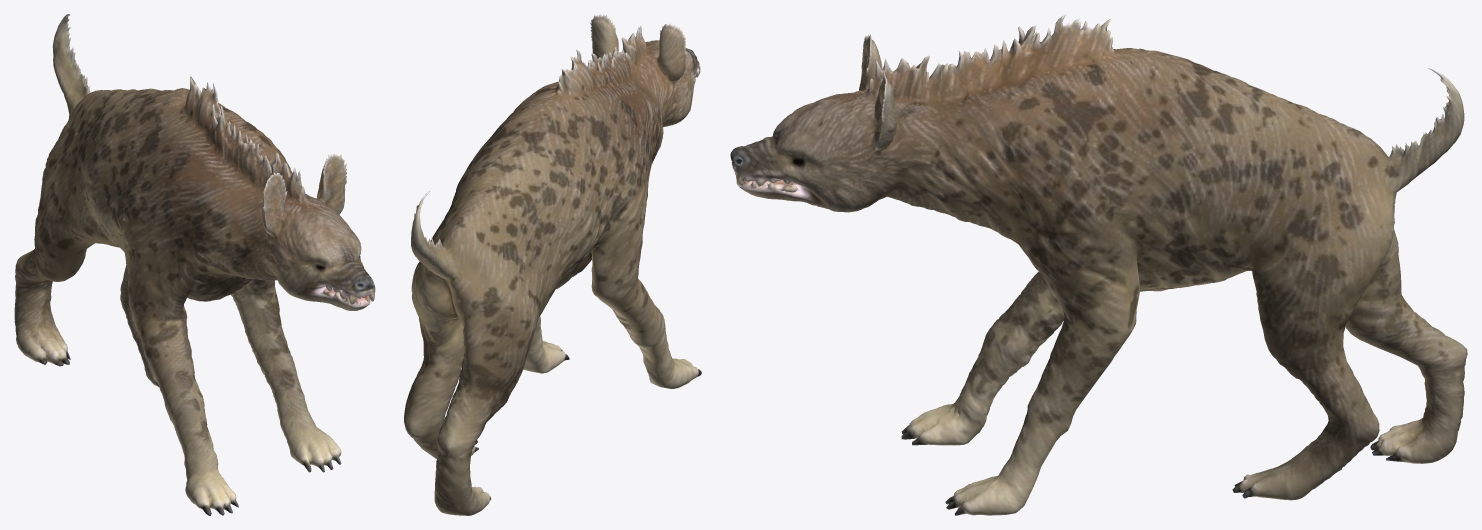
The model's file is MZ4250 - Hyena.glb.
The picture shows the model from 3 angles, left to right: view 1: azimuth 30°, elevation 25°; view 2: azimuth 150°, elevation 25°; view 3: azimuth 270°, elevation 25°; orthographic projection. The views are drawn at different scales.
Visible parts, largest first — view 1: Hyena V4.005; view 2: Hyena V4.005; view 3: Hyena V4.005.
Part boxes in pixels (x1,y1,x2,y2): Hyena V4.005: (14,14,375,515); Hyena V4.005: (404,14,701,515); Hyena V4.005: (730,14,1467,515).
Size of the model in its own units: 8.14 by 17.6 by 25.78.
Materials: 1 (1 with a texture image).
